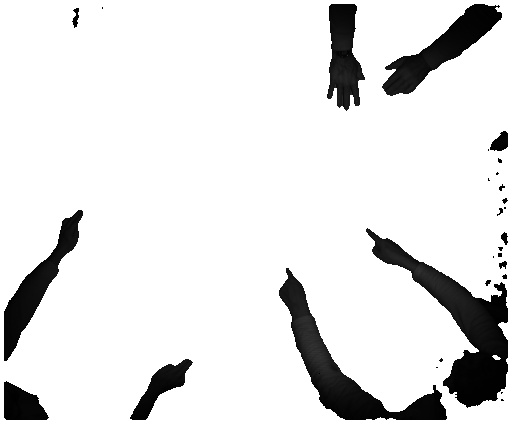hand: (321, 55, 366, 111), (360, 224, 410, 270), (148, 352, 199, 396), (378, 56, 430, 95), (54, 208, 87, 262), (272, 264, 309, 312)
